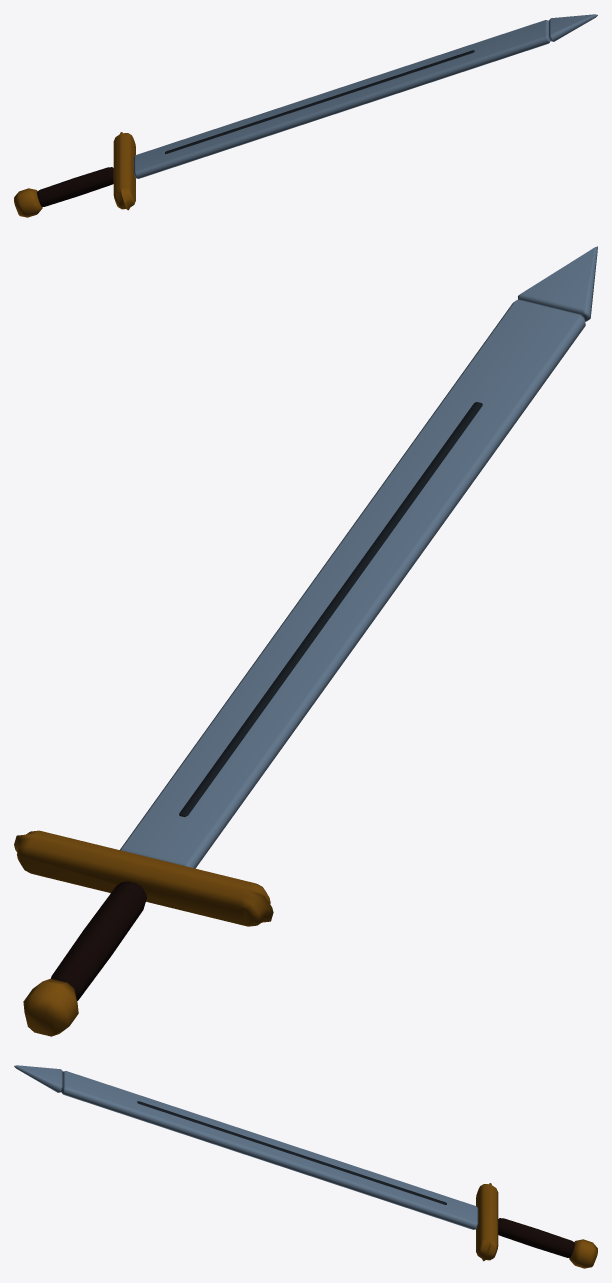
Rendered from Arma_MontanteTempestade.fbx.
3 views of the same model, one above another, from view 1: azimuth 90°, elevation 25°; view 2: azimuth 150°, elevation 25°; view 3: azimuth 270°, elevation 25° (orthographic). The views are drawn at different scales.
Visible parts, largest first — view 1: Piece; view 2: Piece; view 3: Piece.
Part boxes in pixels (box(x1,y1,x2,y2)): Piece: box(14, 14, 597, 217); Piece: box(14, 246, 597, 1036); Piece: box(14, 1065, 597, 1268).
Bounding box in the file's own units: 0.3023 × 0.432 × 1.14.
